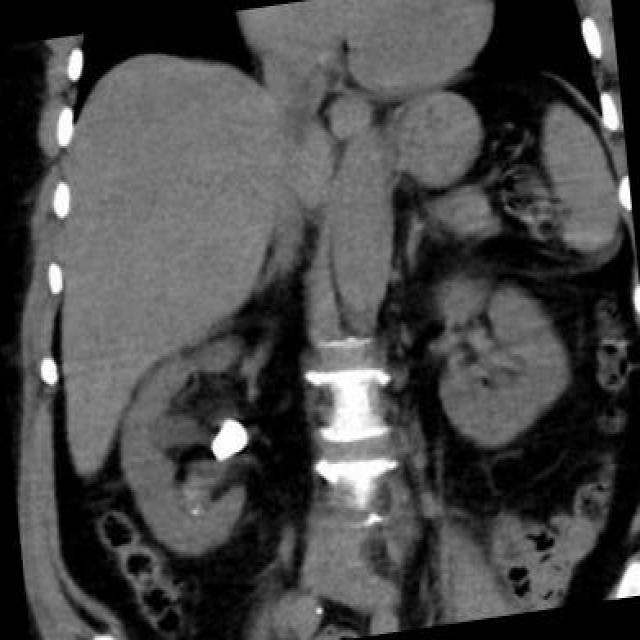Tas_Var: (199, 411, 251, 467), (185, 501, 205, 519)
